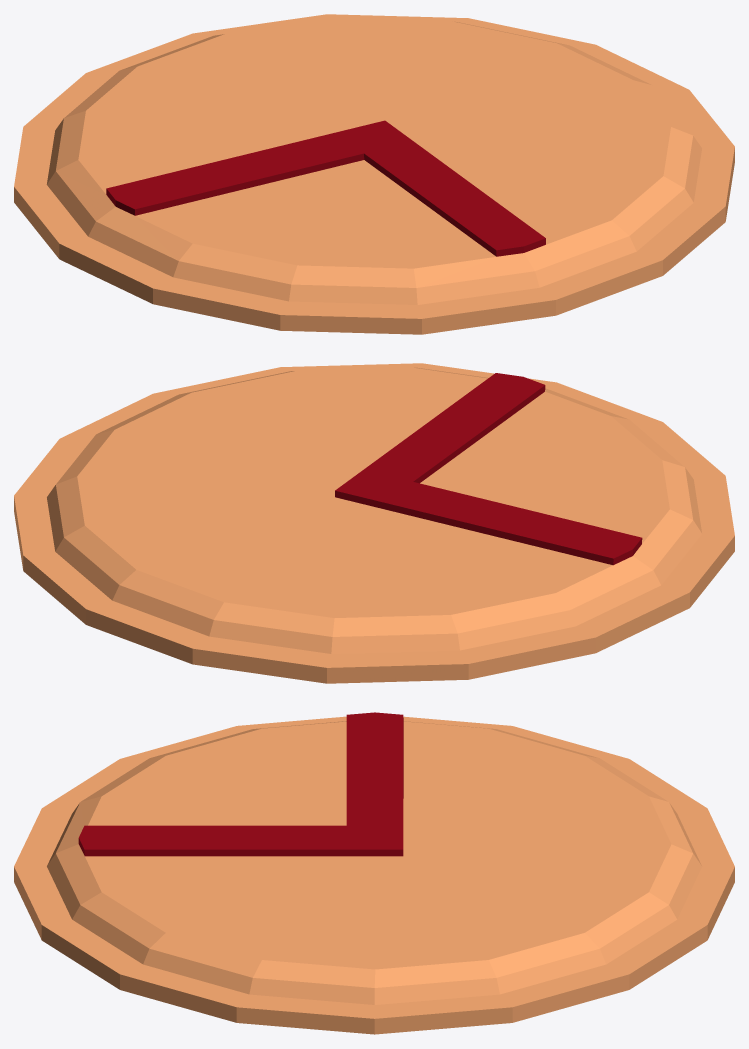
Rendered from Shield.fbx.
3 renders of one model, top to bottom at view 1: azimuth 30°, elevation 25°; view 2: azimuth 150°, elevation 25°; view 3: azimuth 270°, elevation 25°, orthographic.
Visible parts, largest first — view 1: ShieldBase, ShieldRed; view 2: ShieldBase, ShieldRed; view 3: ShieldBase, ShieldRed.
Boxes of the visible parts, left/top/right/bottom form: ShieldBase: left=14, top=14, right=734, bottom=334; ShieldRed: left=106, top=120, right=545, bottom=256; ShieldBase: left=14, top=363, right=734, bottom=683; ShieldRed: left=335, top=373, right=642, bottom=565; ShieldBase: left=14, top=716, right=734, bottom=1034; ShieldRed: left=78, top=712, right=403, bottom=856.
Bounding box in the file's own units: 213 × 14.61 × 213.
